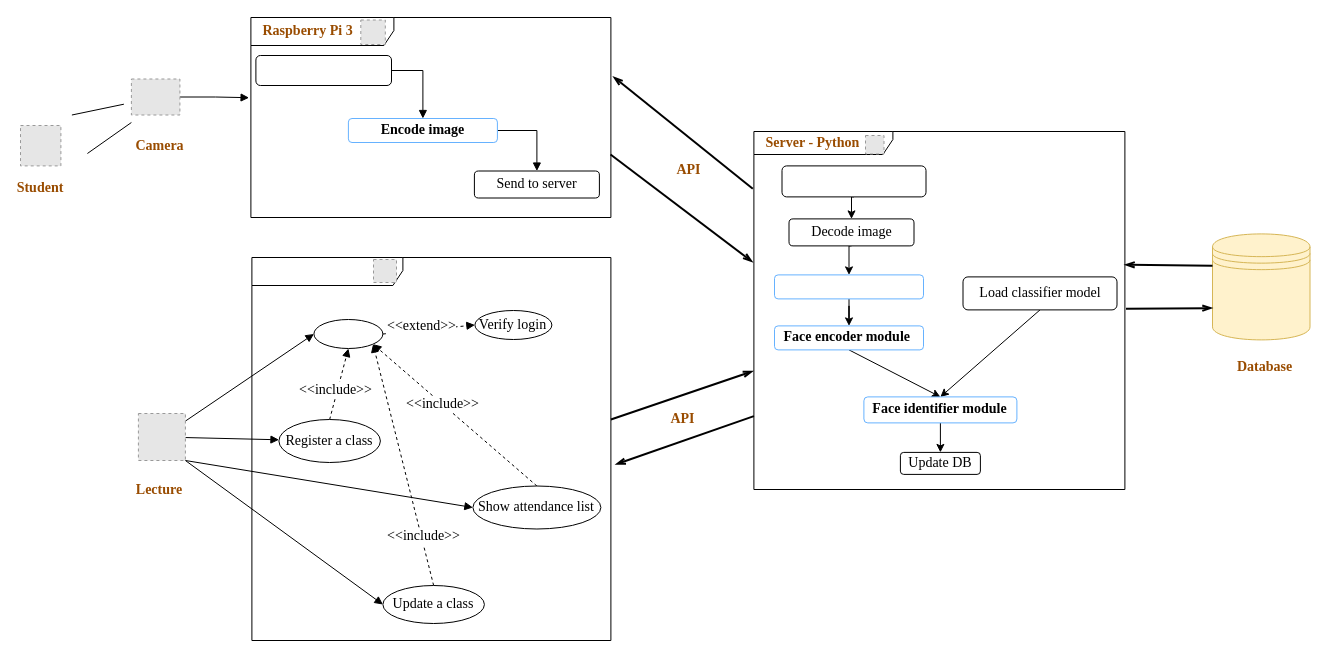
This 1328x658 diagram has some shape labels left out. Grey dashed boxes stand in for pictures. Here are the shapes that lost their labels. From the top down, the box of each, then its label:
(255, 54, 392, 86): Read frame camera
(781, 165, 926, 197): Recive from raspberry
(774, 274, 924, 299): Face detection module
(1212, 233, 1310, 340): Face features, Student info, User accounts, ......
(313, 318, 383, 348): Login
(251, 256, 611, 640): Mobile - Xamarin
